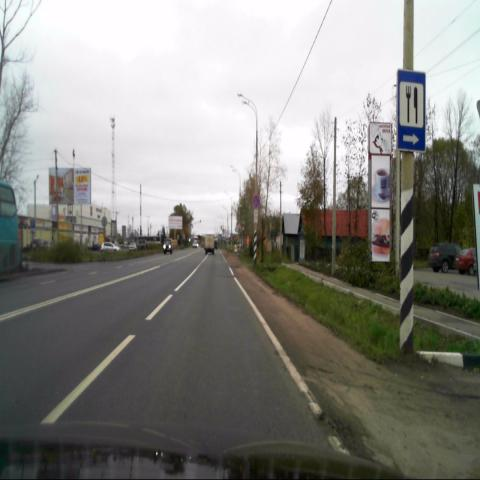7_7: (397, 69, 426, 154)
